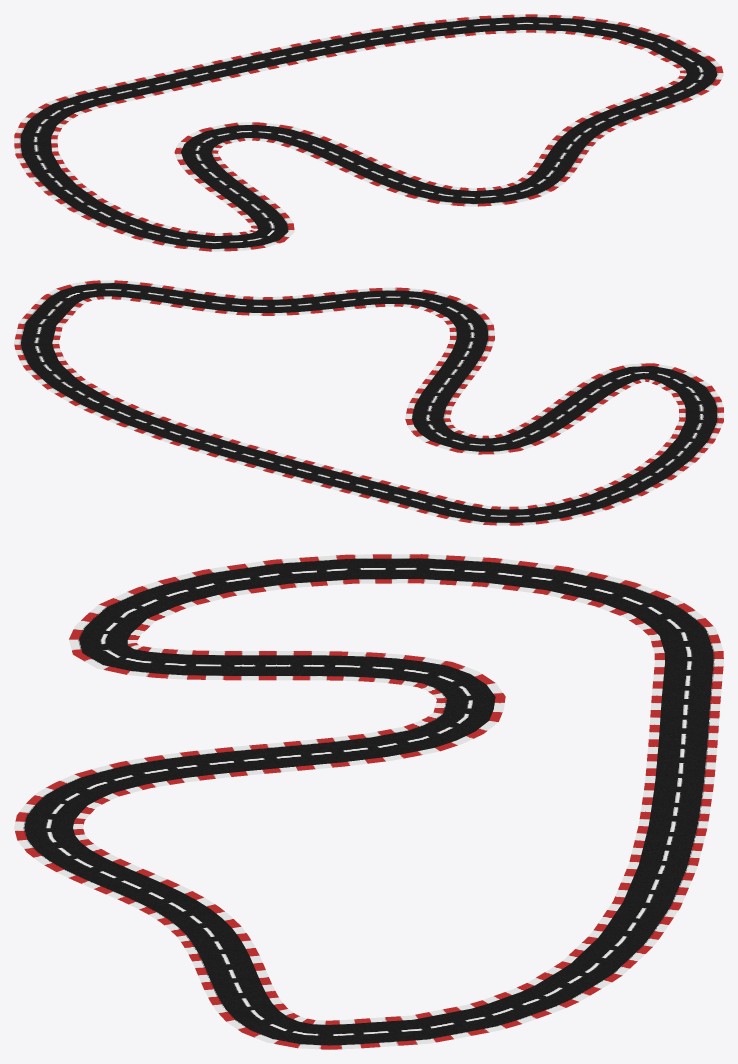
The model's file is CircuitosMedioBien.fbx.
3 views of the same model, one above another, from view 1: azimuth 30°, elevation 25°; view 2: azimuth 150°, elevation 25°; view 3: azimuth 270°, elevation 25° (orthographic). The views are drawn at different scales.
Visible parts, largest first — view 1: Suelo, Extremos; view 2: Suelo, Extremos; view 3: Suelo, Extremos.
Part boxes in pixels (x1=…): Suelo: x1=20, y1=17, x2=717, y2=248; Extremos: x1=14, y1=14, x2=723, y2=251; Suelo: x1=20, y1=283, x2=717, y2=522; Extremos: x1=14, y1=280, x2=723, y2=525; Suelo: x1=24, y1=558, x2=713, y2=1045; Extremos: x1=14, y1=554, x2=723, y2=1049.
Size of the model in its own units: 22455 by 0.00224 by 13593.
